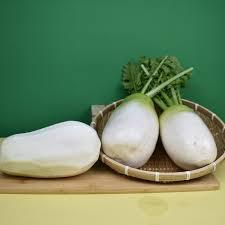radish: (0, 42, 36, 63), (36, 32, 56, 60), (56, 36, 77, 59)
